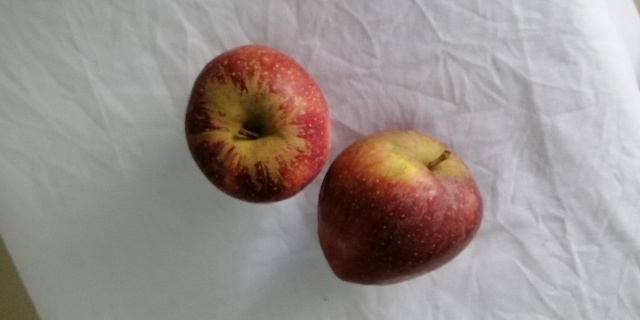apple_kashmir: (316, 126, 487, 287), (181, 43, 331, 203)
